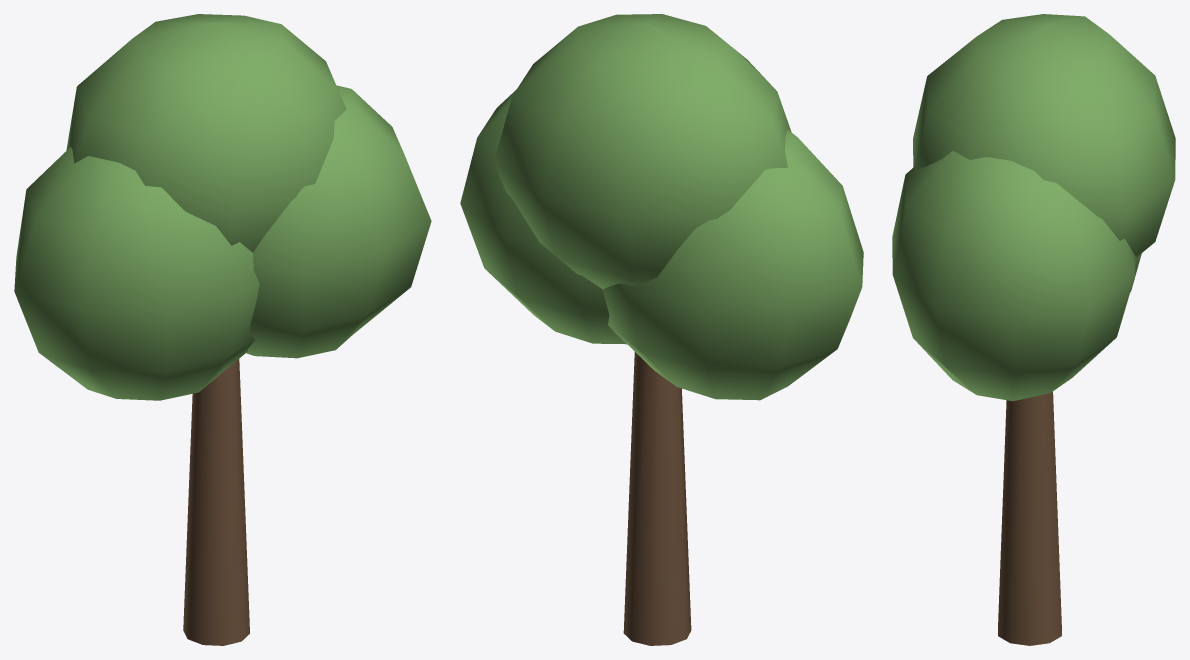
The picture shows the model from 3 angles, left to right: view 1: azimuth 30°, elevation 25°; view 2: azimuth 150°, elevation 25°; view 3: azimuth 270°, elevation 25°; orthographic projection.
Visible parts, largest first — view 1: molen.entities.tree.deciduous.oak; view 2: molen.entities.tree.deciduous.oak; view 3: molen.entities.tree.deciduous.oak.
Part boxes in pixels (<box>): molen.entities.tree.deciduous.oak: <box>14,14,431,645</box>; molen.entities.tree.deciduous.oak: <box>460,14,863,645</box>; molen.entities.tree.deciduous.oak: <box>892,14,1175,645</box>.
Size of the model in its own units: 6.55 by 9.93 by 4.22.
